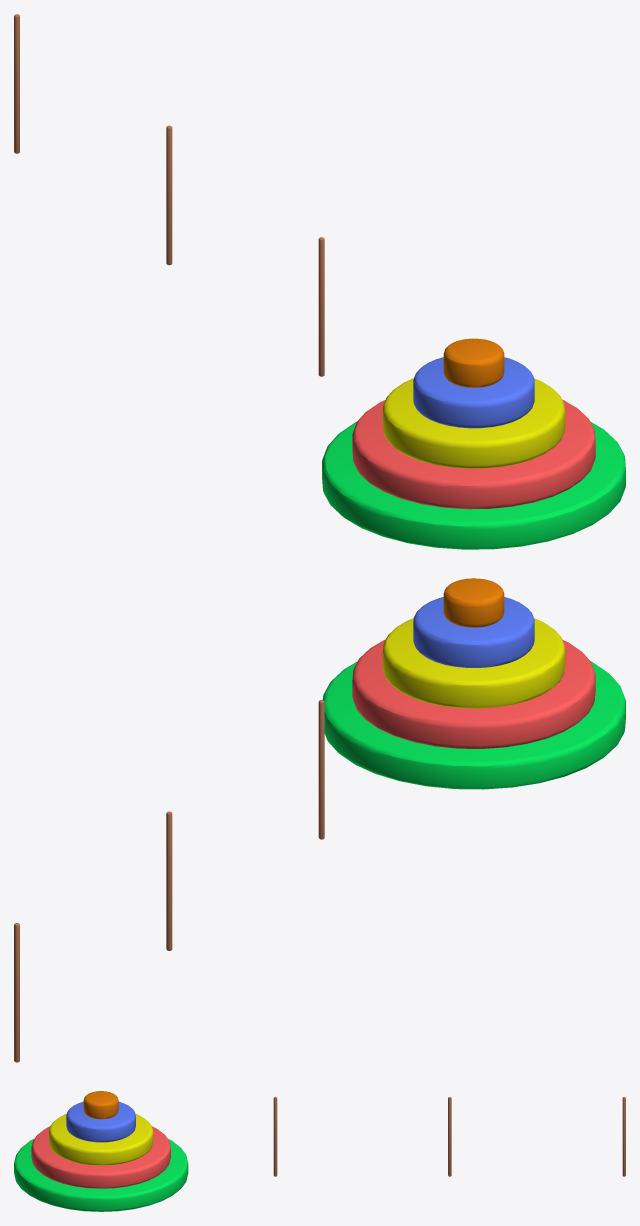
The model's file is tow.fbx.
3 renders of one model, top to bottom at view 1: azimuth 30°, elevation 25°; view 2: azimuth 150°, elevation 25°; view 3: azimuth 270°, elevation 25°, orthographic. The views are drawn at different scales.
Visible parts, largest first — view 1: Cylinder.004_8, Cylinder.005_9, Cylinder.006_10, Cylinder.007_11, Cylinder.008_12, Cylinder.001_5, Cylinder.002_6, Cylinder.003_7; view 2: Cylinder.004_8, Cylinder.005_9, Cylinder.006_10, Cylinder.007_11, Cylinder.008_12, Cylinder.001_5, Cylinder.002_6, Cylinder.003_7; view 3: Cylinder.004_8, Cylinder.005_9, Cylinder.006_10, Cylinder.007_11, Cylinder.008_12, Cylinder.001_5, Cylinder.002_6, Cylinder.003_7.
Boxes of the visible parts, x1,y1,x2,y2 form: Cylinder.004_8: (322, 421, 625, 549); Cylinder.005_9: (352, 399, 595, 509); Cylinder.006_10: (382, 378, 565, 468); Cylinder.007_11: (413, 357, 534, 428); Cylinder.008_12: (443, 338, 504, 387); Cylinder.001_5: (318, 237, 324, 376); Cylinder.002_6: (166, 125, 172, 265); Cylinder.003_7: (14, 14, 19, 153); Cylinder.004_8: (322, 661, 625, 789); Cylinder.005_9: (352, 639, 595, 748); Cylinder.006_10: (382, 618, 565, 708); Cylinder.007_11: (413, 597, 534, 667); Cylinder.008_12: (443, 578, 504, 627); Cylinder.001_5: (318, 700, 324, 839); Cylinder.002_6: (166, 811, 172, 950); Cylinder.003_7: (14, 923, 19, 1062); Cylinder.004_8: (14, 1139, 188, 1211); Cylinder.005_9: (31, 1126, 170, 1188); Cylinder.006_10: (49, 1113, 153, 1165); Cylinder.007_11: (66, 1101, 135, 1142); Cylinder.008_12: (83, 1091, 118, 1119); Cylinder.001_5: (273, 1097, 277, 1176); Cylinder.002_6: (448, 1097, 451, 1176); Cylinder.003_7: (622, 1097, 625, 1176).
Bounding box in the file's own units: 100 × 50 × 351.
